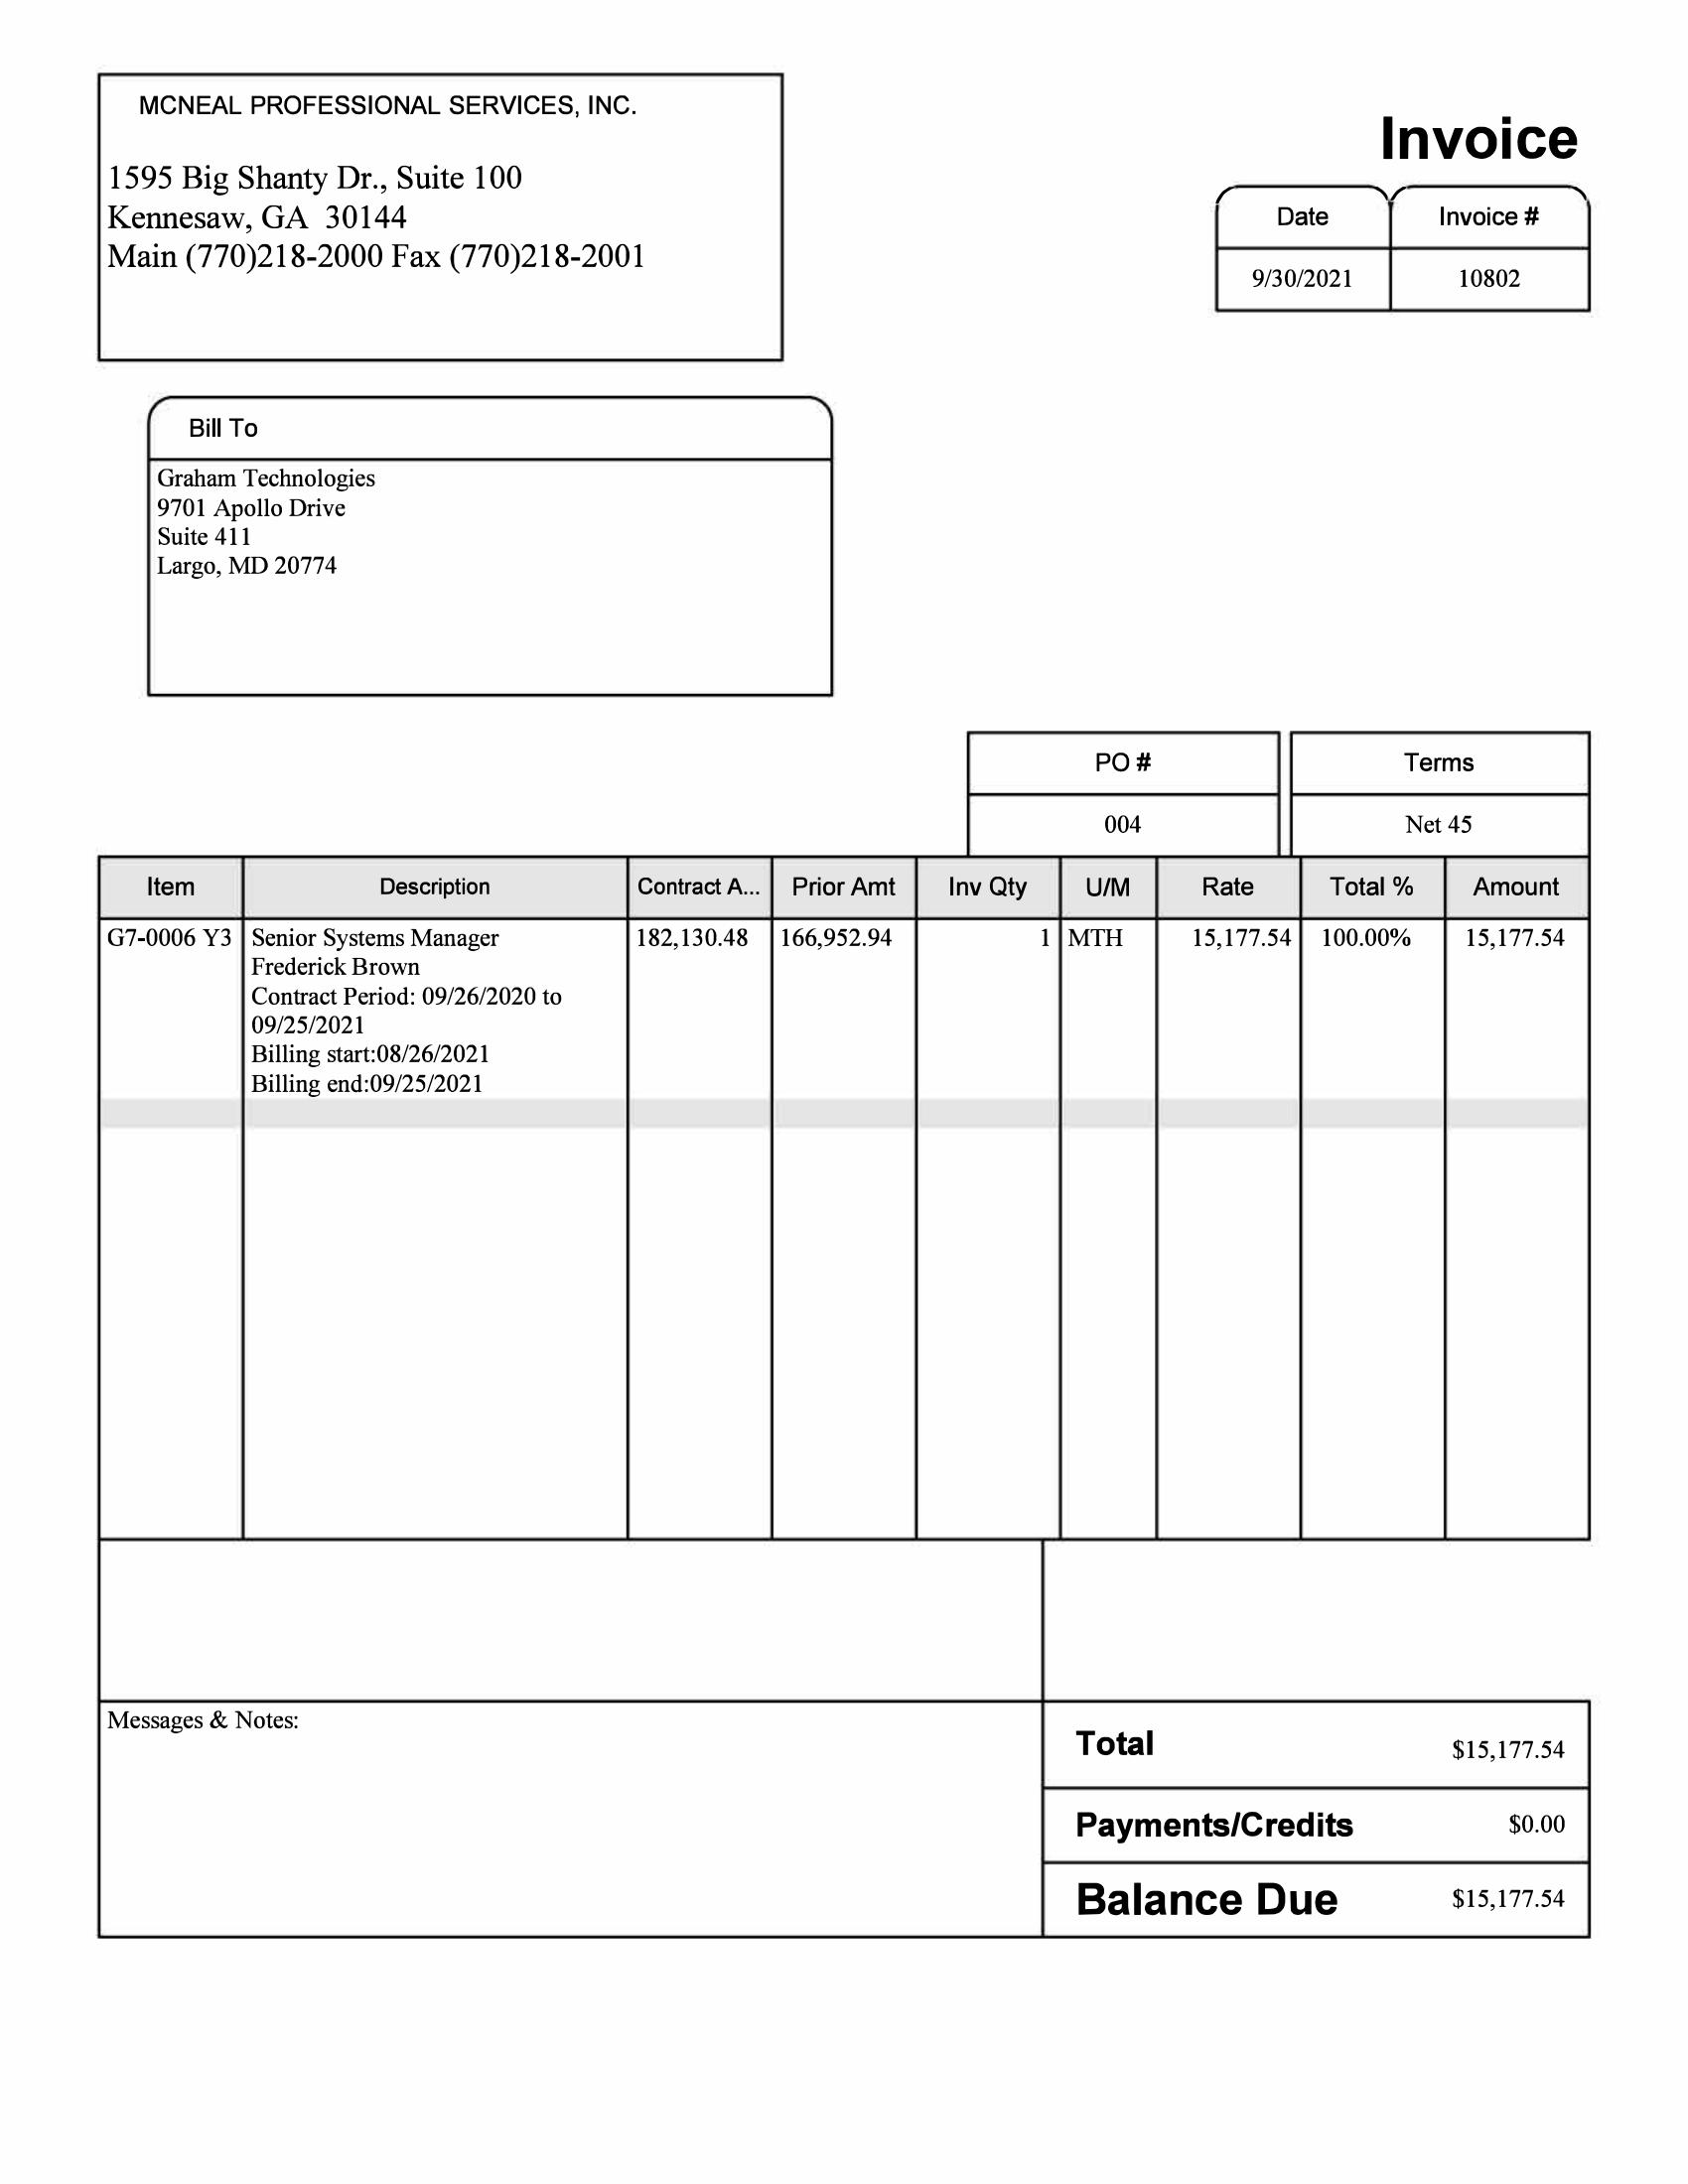table: (92, 854, 1606, 1558), (965, 714, 1601, 849), (1204, 179, 1606, 324)
